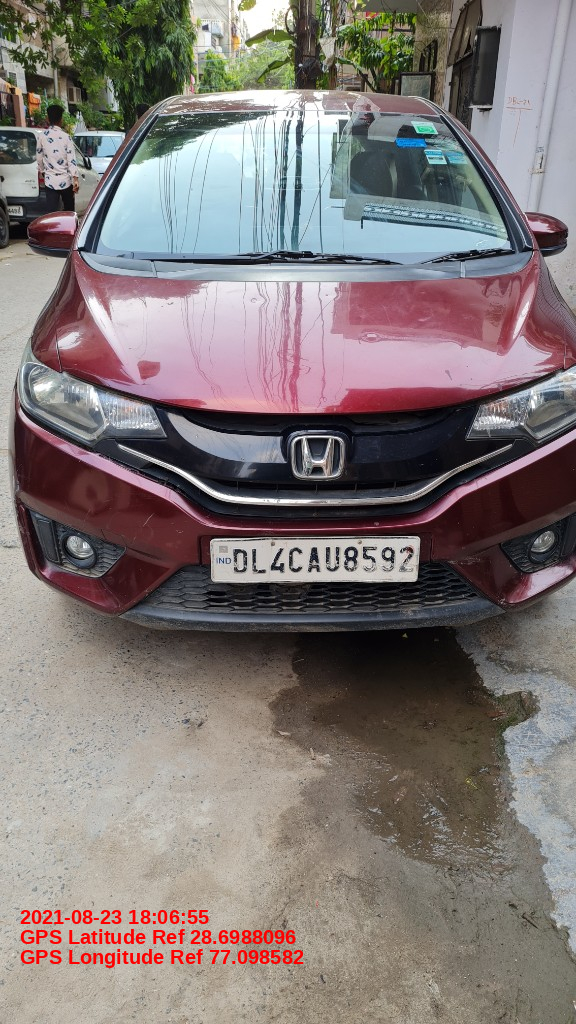Scratched: (12, 472, 27, 550), (451, 552, 483, 572), (135, 511, 163, 531)
